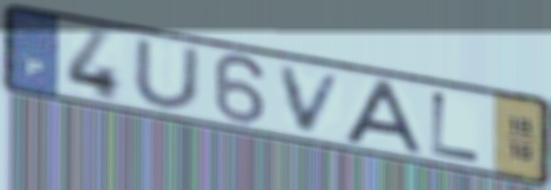4: (62, 27, 128, 103)
6: (211, 52, 269, 126)
A: (339, 77, 428, 159)
L: (427, 89, 485, 166)
U: (130, 36, 204, 114)
V: (276, 64, 349, 137)
